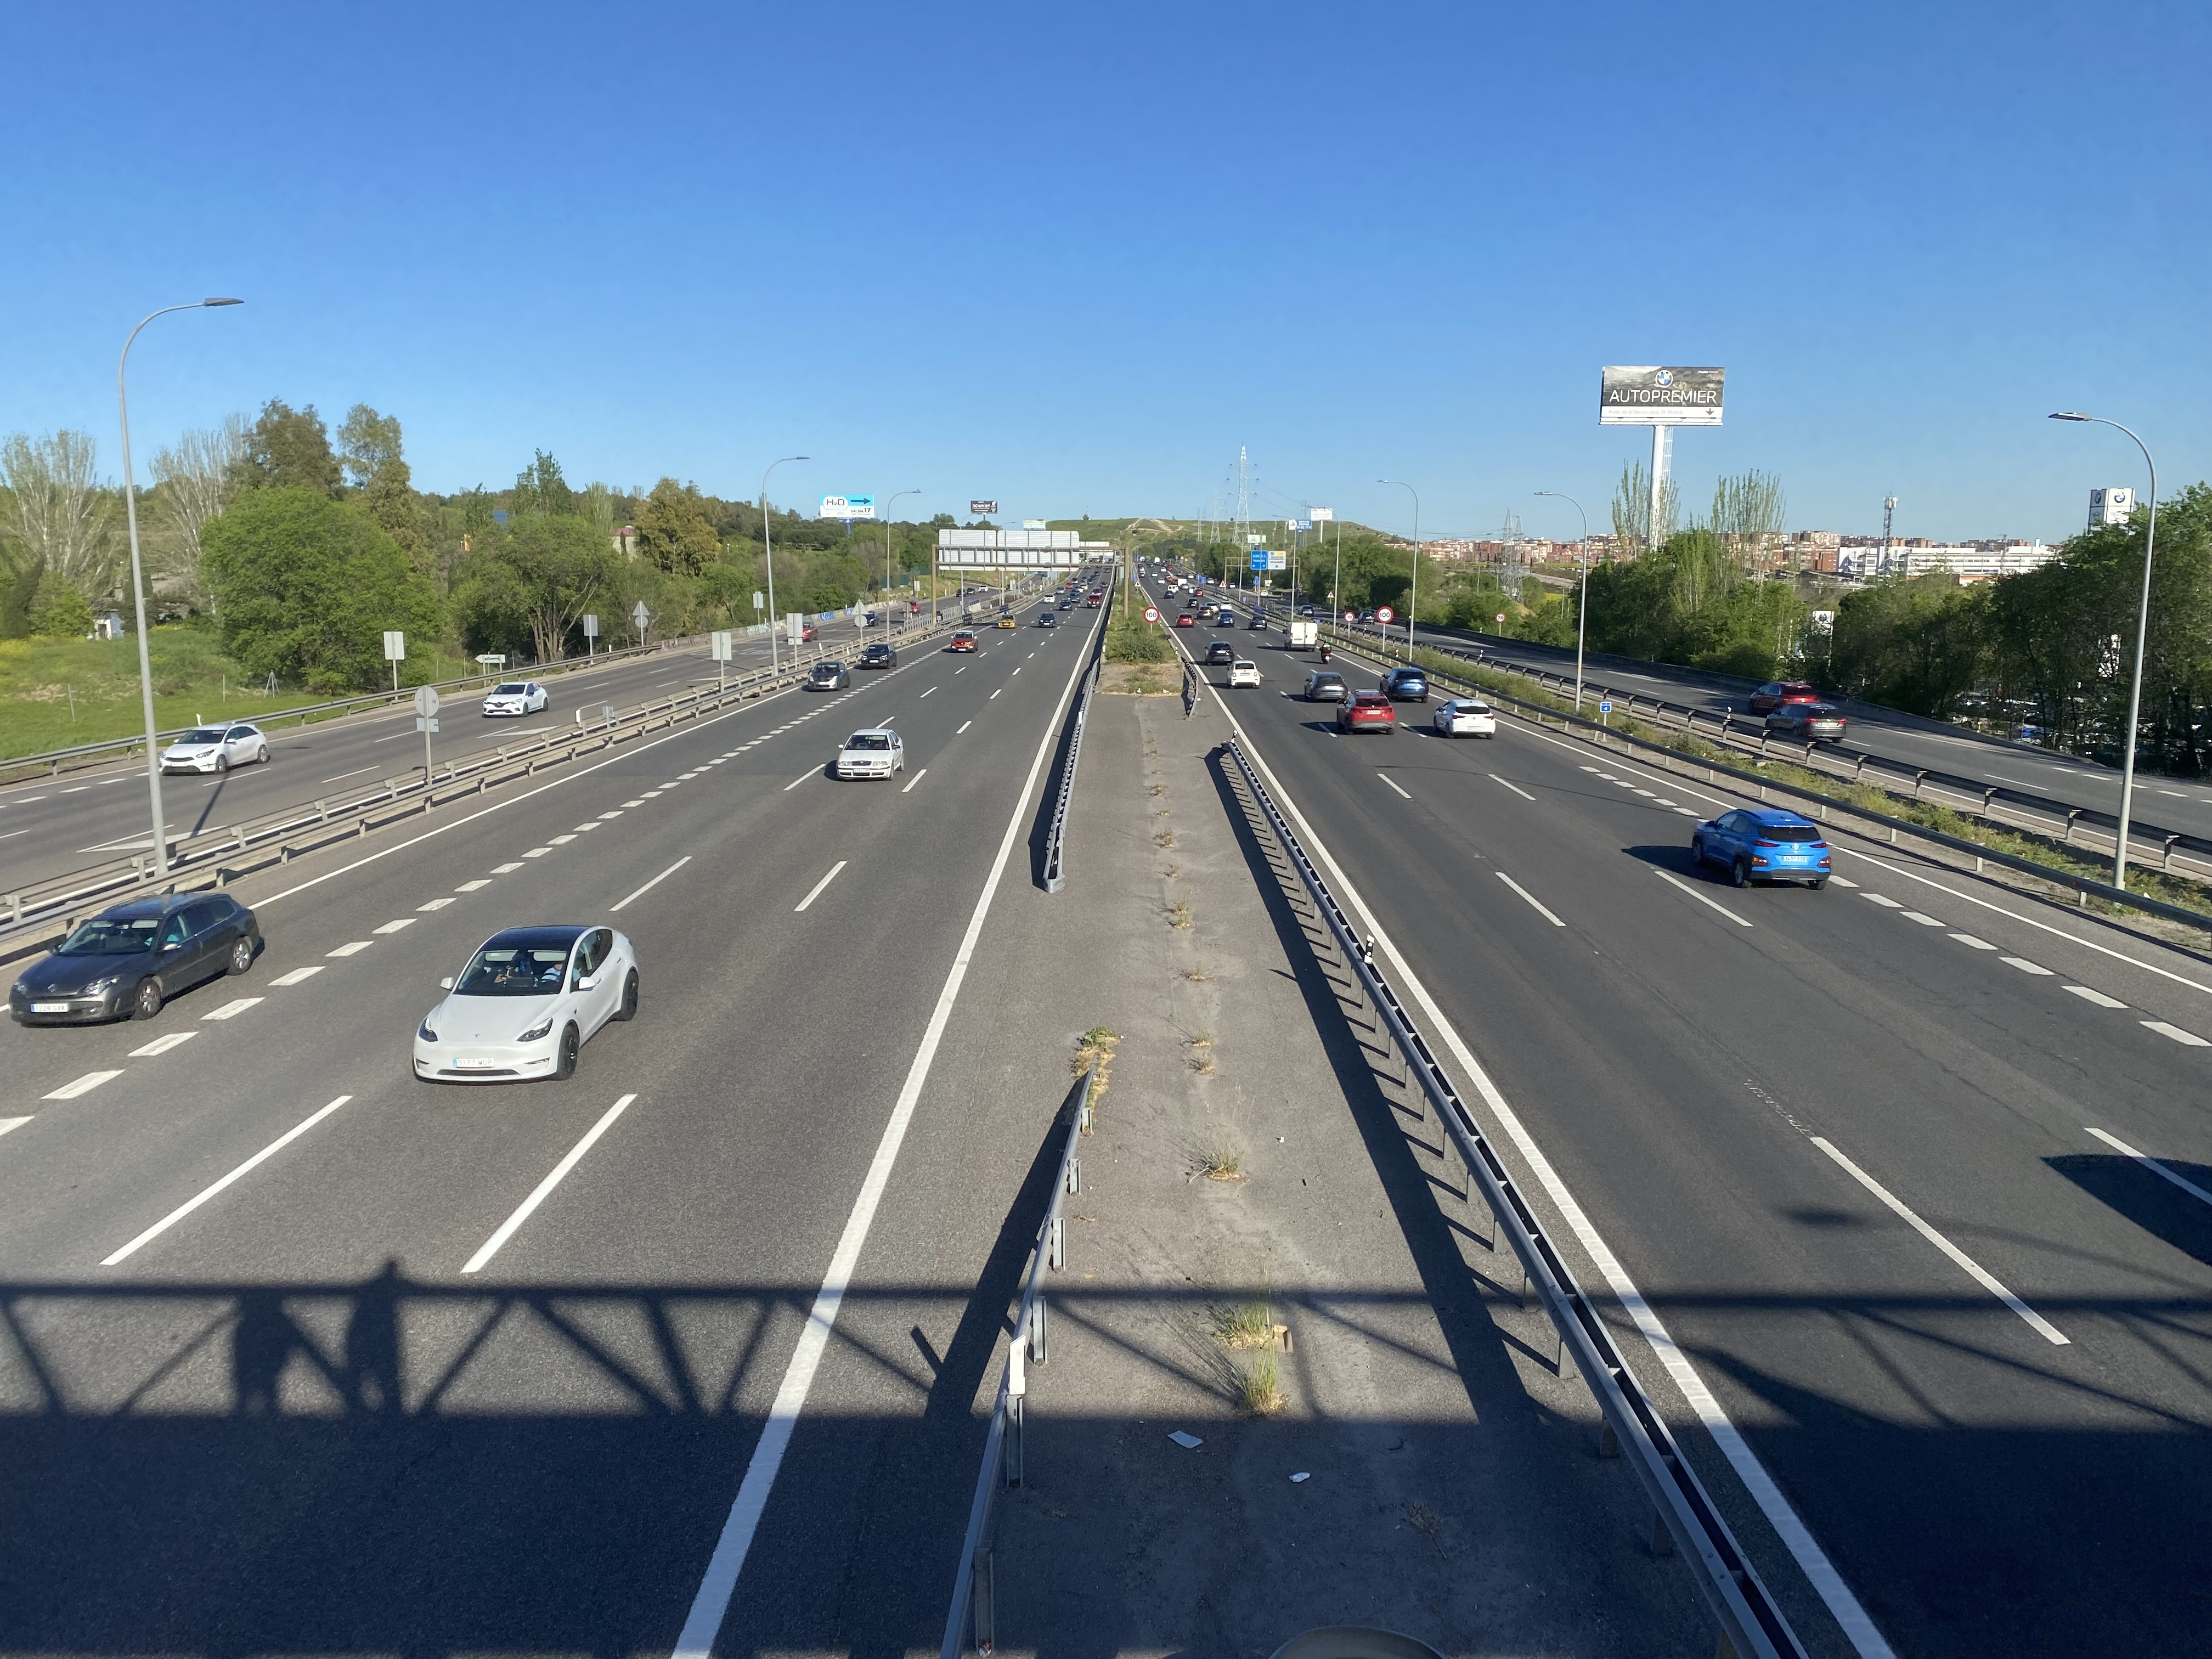cars: (411, 925, 639, 1080), (10, 894, 263, 1025), (1691, 809, 1831, 889), (160, 723, 268, 774), (834, 727, 904, 779), (1766, 701, 1846, 742), (1336, 690, 1395, 734), (1749, 680, 1818, 714), (1433, 699, 1496, 737), (482, 681, 549, 716), (1379, 666, 1428, 701), (803, 659, 850, 690), (1301, 669, 1346, 701), (859, 641, 897, 669), (1228, 659, 1261, 687), (1202, 640, 1235, 666), (946, 631, 977, 653), (2013, 723, 2045, 744), (1249, 610, 1268, 631), (1216, 606, 1235, 627), (1035, 610, 1057, 627), (1174, 612, 1195, 627), (1143, 606, 1160, 624), (1085, 591, 1103, 608), (996, 615, 1015, 629)
